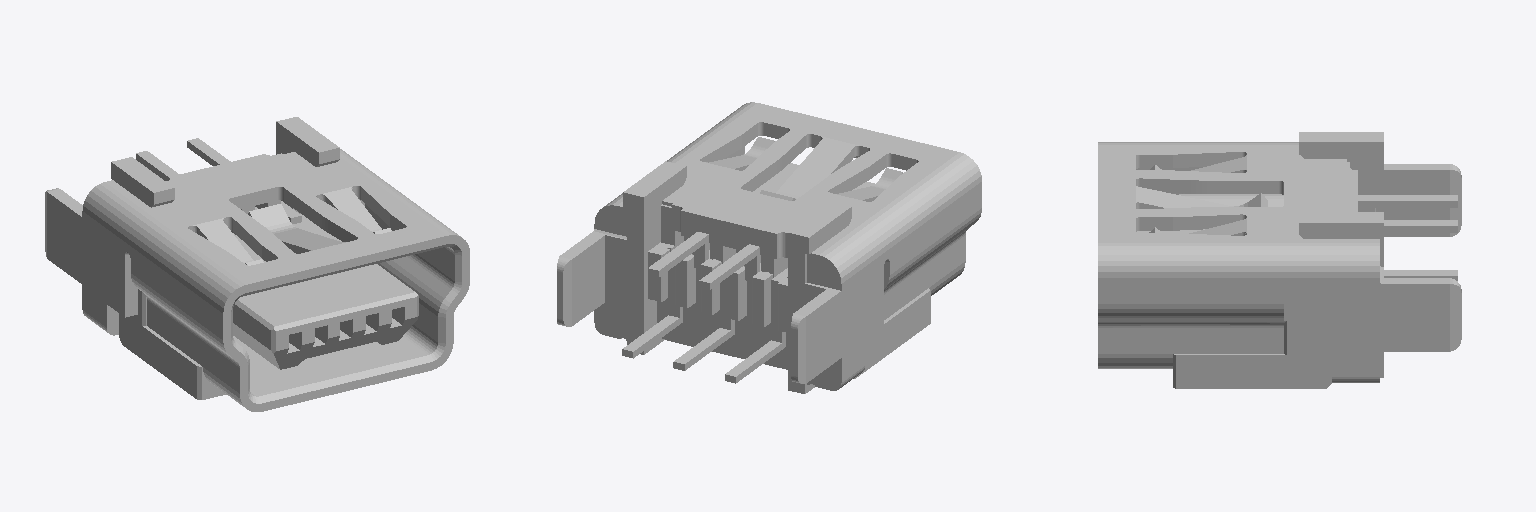
The model's file is Mini-B USB Vertical.obj.
3 views of the same model, side by side, from view 1: azimuth 30°, elevation 25°; view 2: azimuth 150°, elevation 25°; view 3: azimuth 270°, elevation 25° (orthographic).
Bounding box in the file's own units: 7.7 × 4.7 × 9.8.